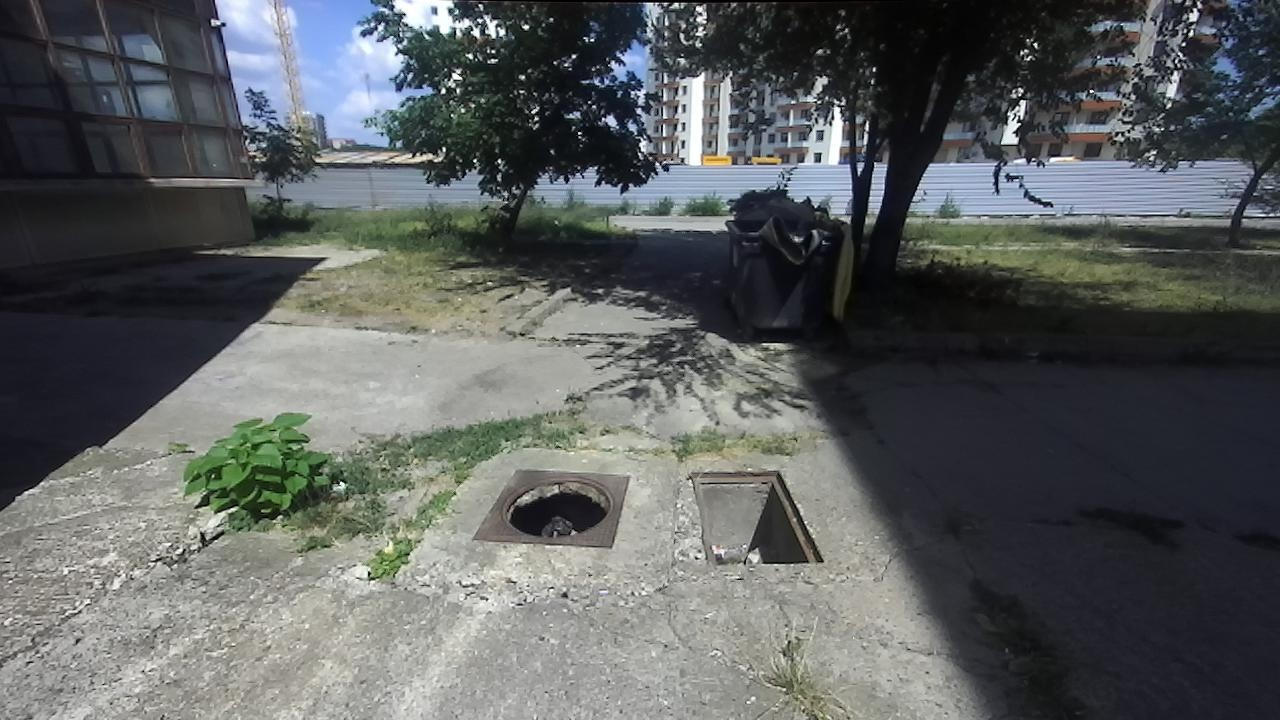drain: (685, 465, 833, 568), (493, 474, 619, 542)
